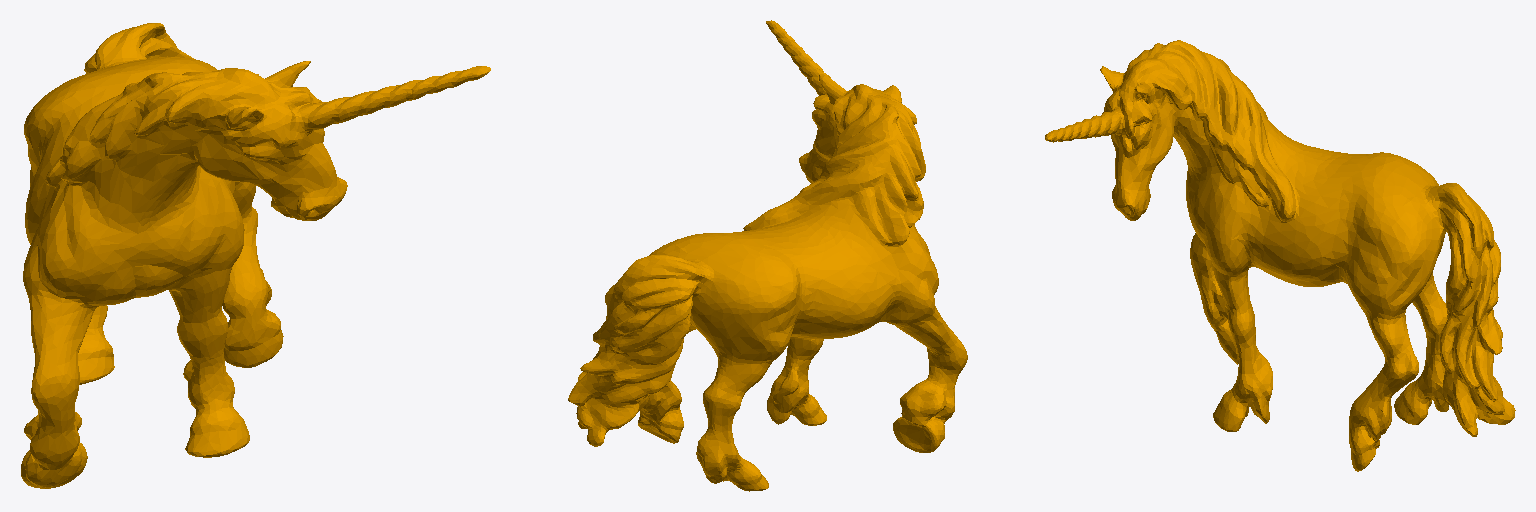
The robot description file, URDF, robot "bgdxgad8":
<?xml version='1.0'?>

<robot name="bgdxgad8">
    <static>false</static>
    <link name="link">
        <inertial>
            <mass value="0.1749437885282104"/>
            <inertia ixx="0.00024824531695951963" ixy="-6.595146562341406e-05" ixz="1.622425930922002e-05"
                     iyy="0.00017070621727889452" iyz="5.3178060005317194e-05" izz="0.000243891968795049"/>
        </inertial>
        <collision name="collision">
            <geometry>
                <mesh filename="package://miscnet/train/bgdxgad8/collision_model_vhacd.obj"/>
            </geometry>
        </collision>
        <visual name="visual">
            <geometry>
                <mesh filename="package://miscnet/train/bgdxgad8/visual_model.obj"/>
            </geometry>
        </visual>
    </link>
</robot>

--- Render facts (derived) ---
Views: 3 orthographic renders of the robot side by side, from view 1: azimuth 30°, elevation 25°; view 2: azimuth 150°, elevation 25°; view 3: azimuth 270°, elevation 25°.
Model bgdxgad8 with 1 links and 0 joints (none), rooted at link, posed every joint at zero.
Links seen in each view (by area): view 1: link; view 2: link; view 3: link.
Link boxes in pixels (x1,y1,x2,y2): link: (21,23,490,488); link: (568,20,967,491); link: (1045,40,1515,471).
Bounding box of the posed robot: 0.1093 × 0.148 × 0.122 m (x, y, z).
Meshes: 1 distinct files referenced, 1 mesh visuals loaded (1 OBJ).
